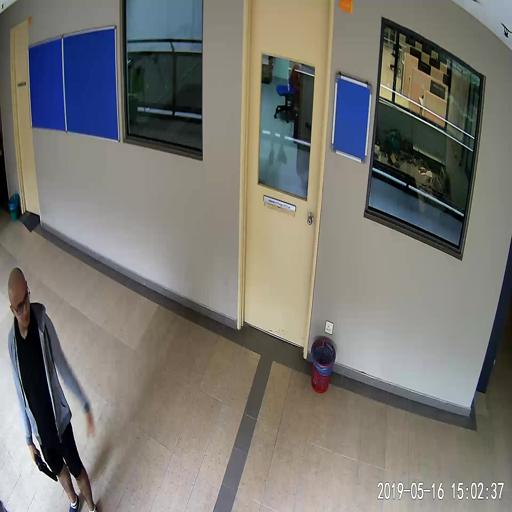pistol: (33, 446, 57, 480)
